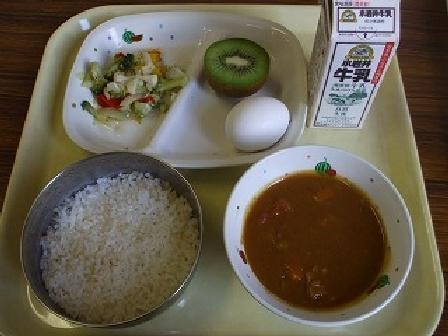Curry: (232, 153, 408, 309)
Milk: (298, 3, 408, 128)
Rice: (30, 154, 205, 316)
Salad: (87, 35, 183, 126)
boiled eggs: (221, 83, 295, 156)
kiwi: (197, 28, 271, 92)
